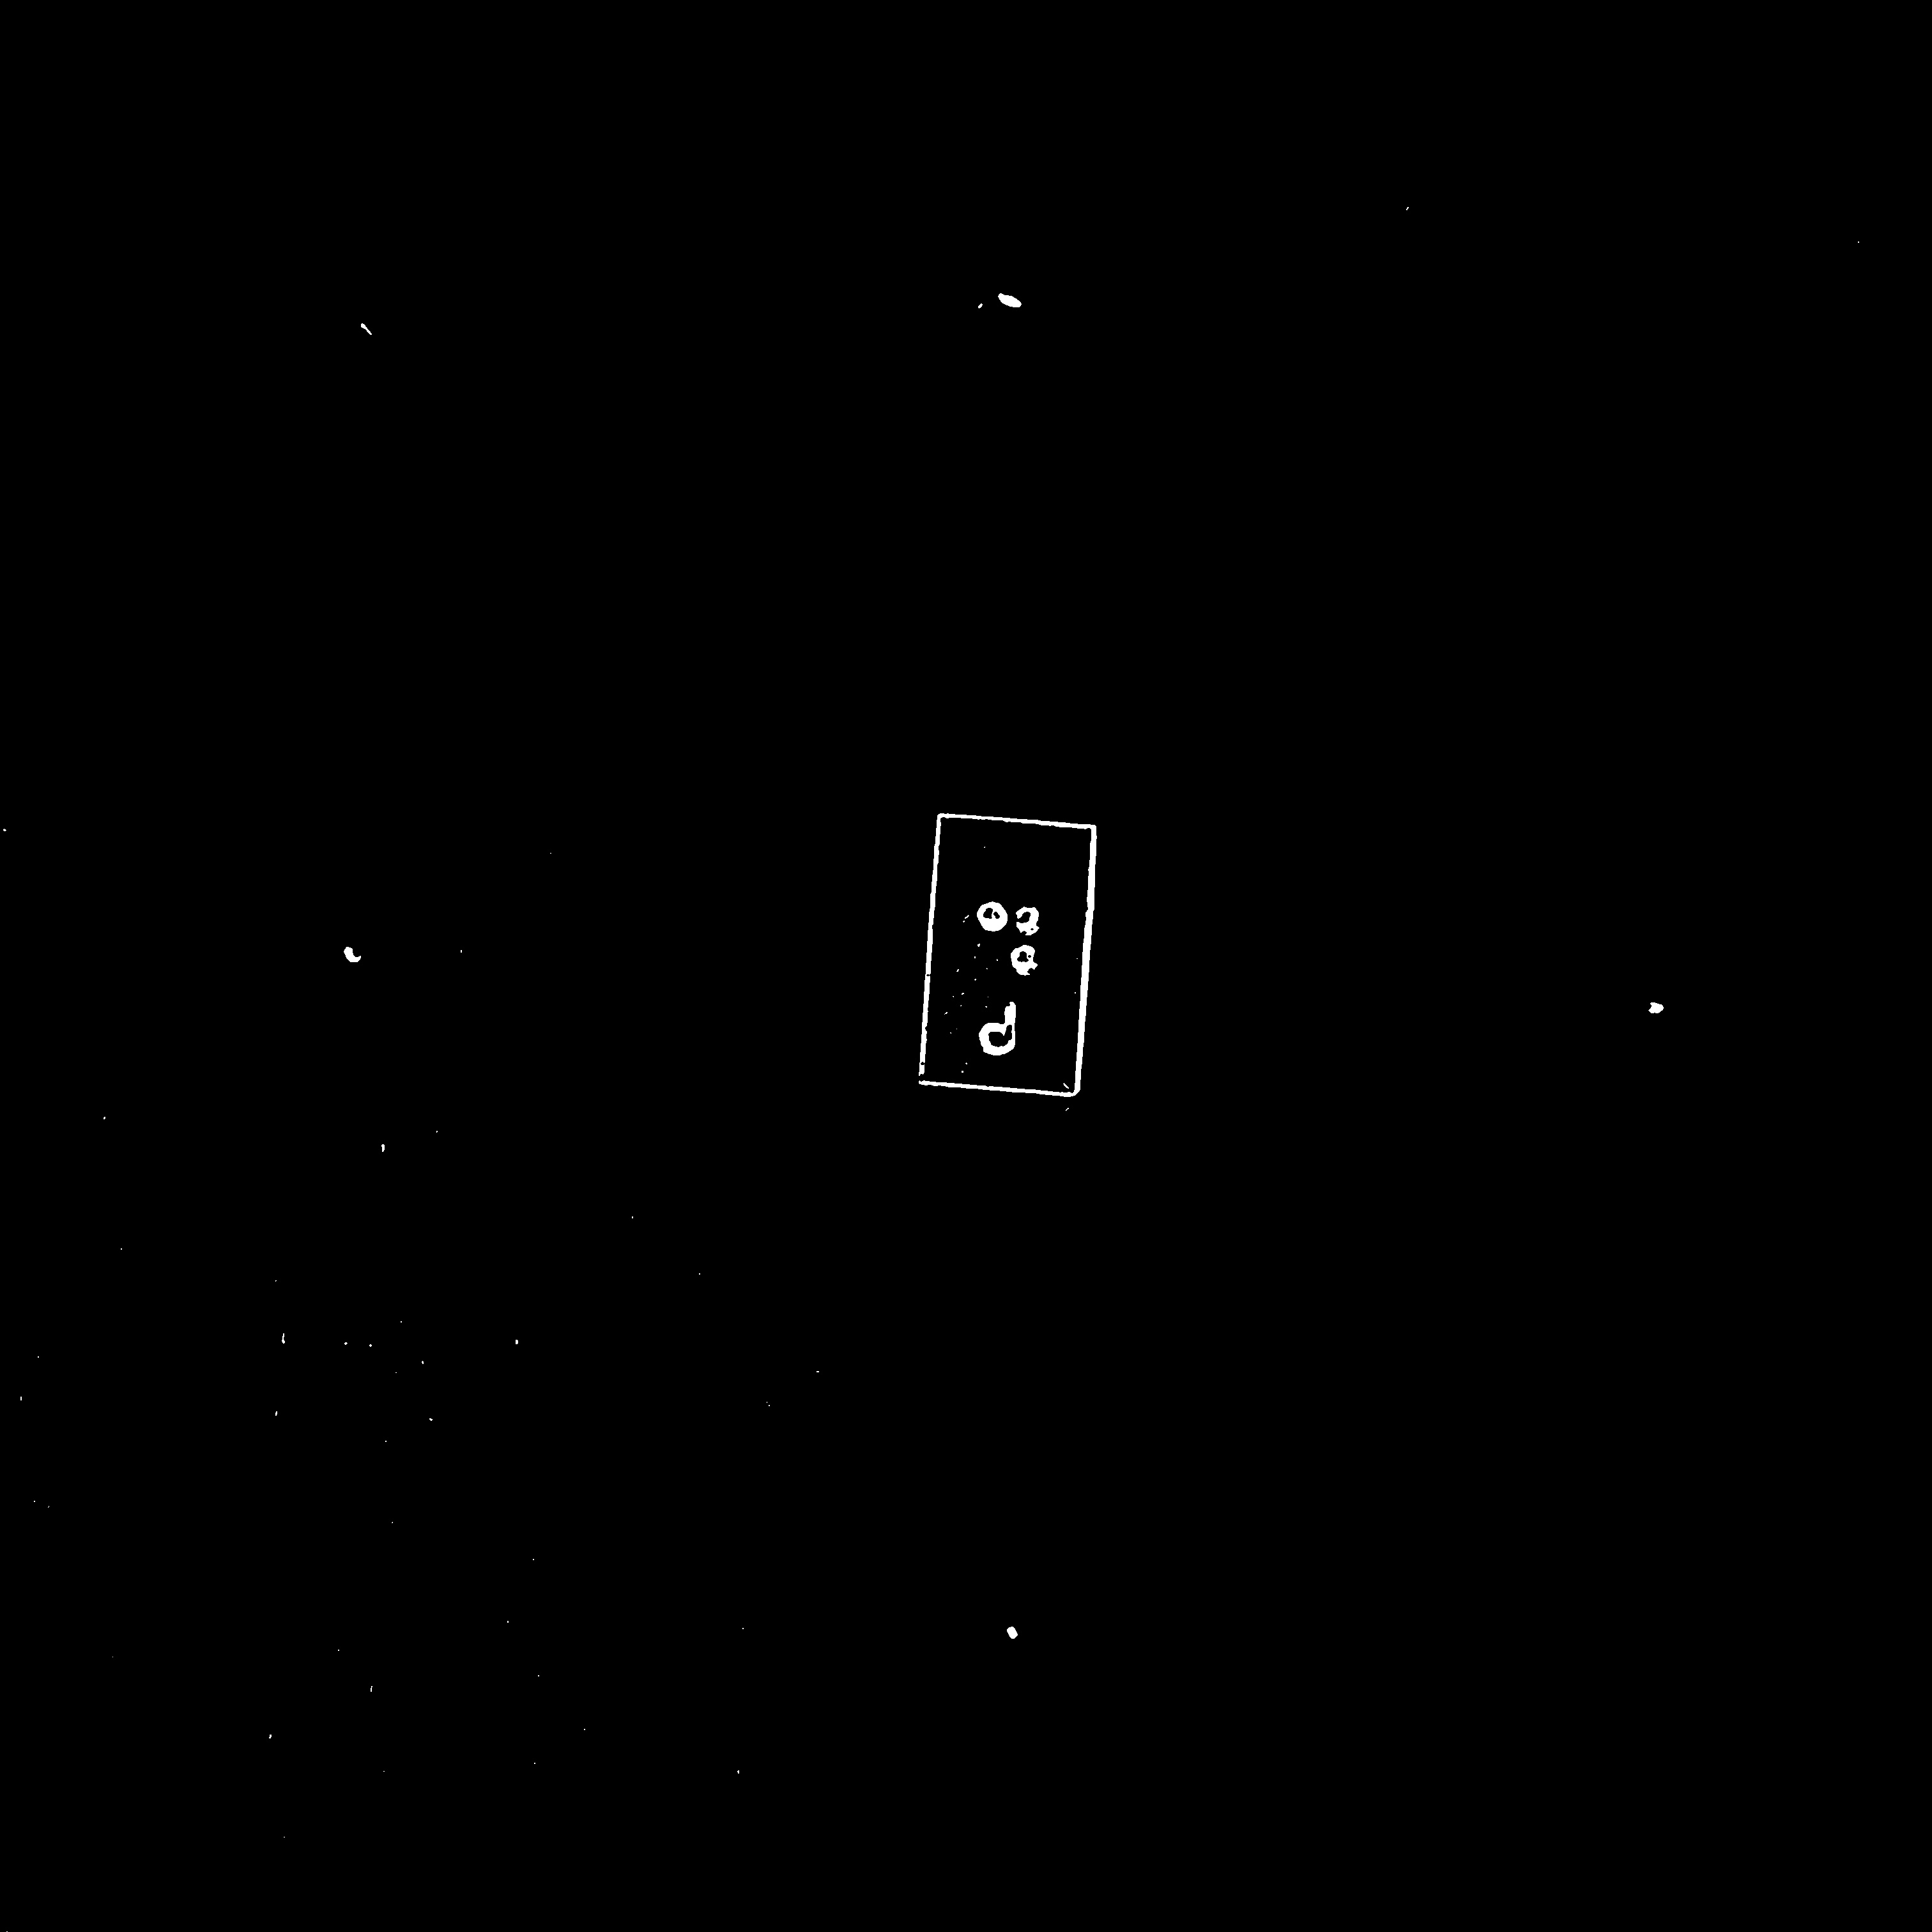d: (965, 873, 1051, 1020)
